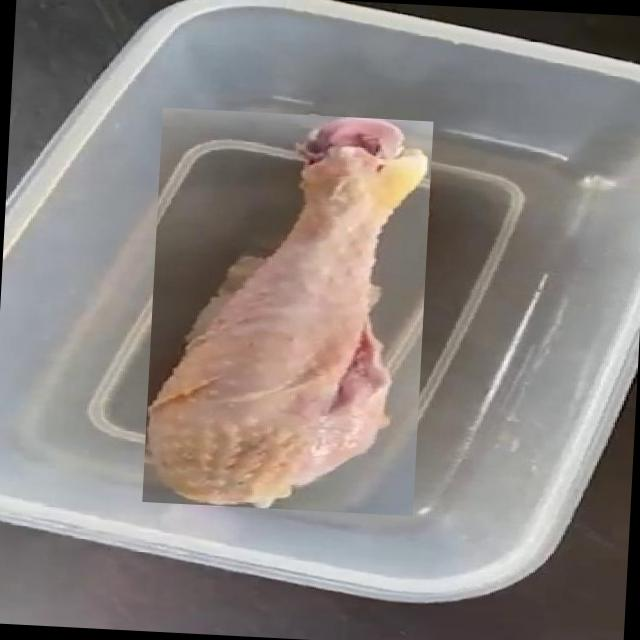chicken: (143, 106, 434, 516)
